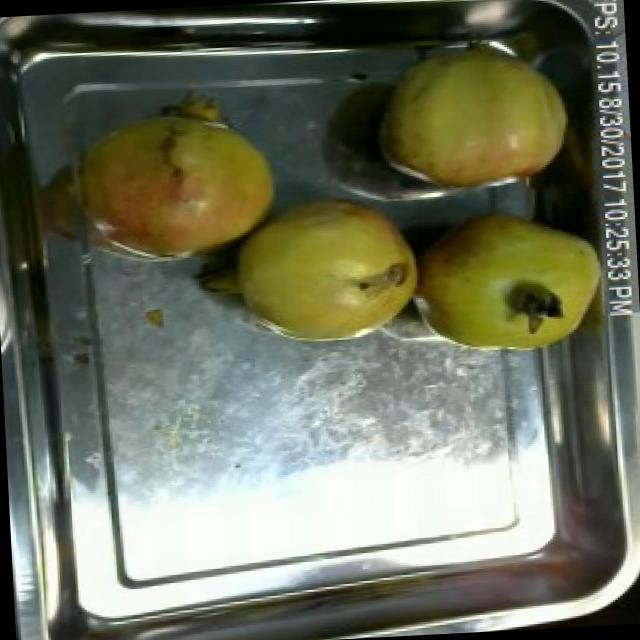fruit: (53, 85, 292, 278), (194, 180, 430, 358), (365, 34, 579, 206), (401, 199, 613, 365)
